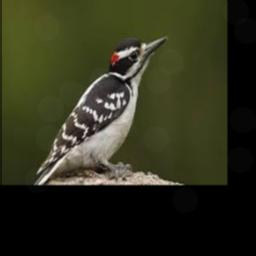Woodpecker: (33, 35, 167, 185)
